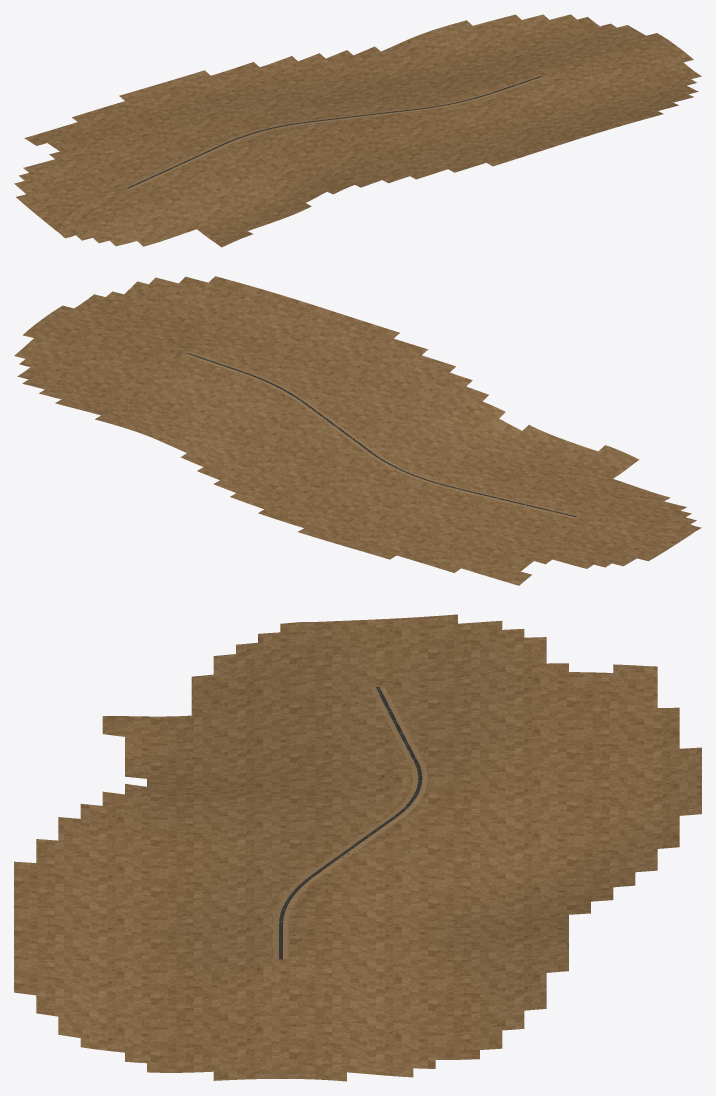
3 renders of one model, top to bottom at view 1: azimuth 30°, elevation 25°; view 2: azimuth 150°, elevation 25°; view 3: azimuth 270°, elevation 25°, orthographic. The views are drawn at different scales.
Visible parts, largest first — view 1: S08_TERRAIN_LOD0_WEB_EXPORT, V2_LANDFORM_S08_CUT_FILL_LEFT_WEB_EXPORT, V2_LANDFORM_S08_CUT_FILL_RIGHT_WEB_EXPORT, S08_ROAD_ASPHALT_LOD0_WEB_EXPORT; view 2: S08_TERRAIN_LOD0_WEB_EXPORT, V2_LANDFORM_S08_CUT_FILL_RIGHT_WEB_EXPORT, V2_LANDFORM_S08_CUT_FILL_LEFT_WEB_EXPORT, S08_ROAD_ASPHALT_LOD0_WEB_EXPORT; view 3: S08_TERRAIN_LOD0_WEB_EXPORT, V2_LANDFORM_S08_CUT_FILL_RIGHT_WEB_EXPORT, V2_LANDFORM_S08_CUT_FILL_LEFT_WEB_EXPORT, S08_ROAD_ASPHALT_LOD0_WEB_EXPORT.
Part boxes in pixels (x1,y1,x2,y2): S08_TERRAIN_LOD0_WEB_EXPORT: (14,14,701,247); V2_LANDFORM_S08_CUT_FILL_LEFT_WEB_EXPORT: (128,77,542,189); V2_LANDFORM_S08_CUT_FILL_RIGHT_WEB_EXPORT: (125,75,539,187); S08_ROAD_ASPHALT_LOD0_WEB_EXPORT: (127,76,540,188); S08_TERRAIN_LOD0_WEB_EXPORT: (14,276,701,585); V2_LANDFORM_S08_CUT_FILL_RIGHT_WEB_EXPORT: (185,354,575,518); V2_LANDFORM_S08_CUT_FILL_LEFT_WEB_EXPORT: (188,352,577,515); S08_ROAD_ASPHALT_LOD0_WEB_EXPORT: (187,353,576,516); S08_TERRAIN_LOD0_WEB_EXPORT: (14,614,701,1081); V2_LANDFORM_S08_CUT_FILL_RIGHT_WEB_EXPORT: (283,686,427,959); V2_LANDFORM_S08_CUT_FILL_LEFT_WEB_EXPORT: (273,687,417,959); S08_ROAD_ASPHALT_LOD0_WEB_EXPORT: (279,686,422,959).
Size of the model in its own units: 2280 by 192 by 1240.
Materials: 12 (9 with a texture image).
